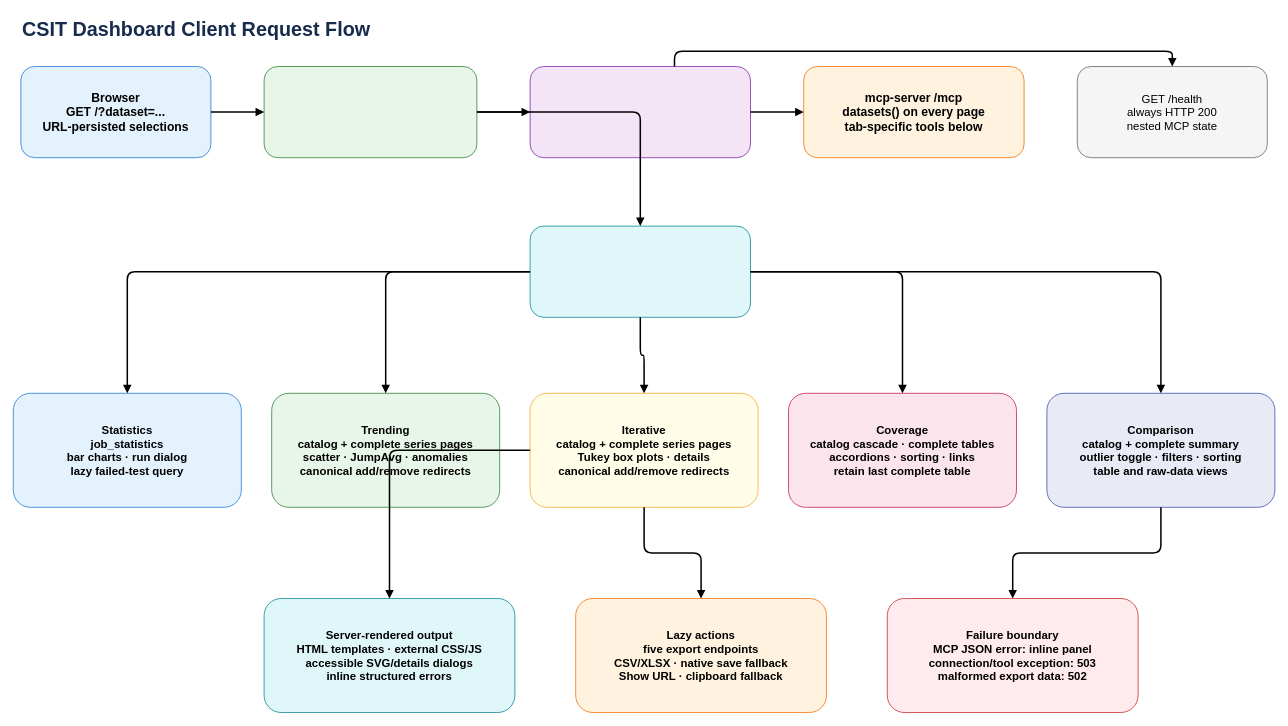
The diagram is 1288 pixels wide and 726 high, and some of its shapes have lost their labels. Each missing label, with the centre of its shape:
"Dataset router Statistics · Trending · Iterative Coverage · Comparison" goes at point (639, 271).
"MCPClientState initial attempt · lazy reconnect shared lock · last metadata" goes at point (639, 112).
"Starlette app.py select tab · parse arguments paginate required tool data" goes at point (370, 112).
